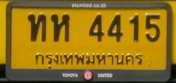txt18: (26, 13, 47, 42)
txt36: (49, 13, 70, 43)
